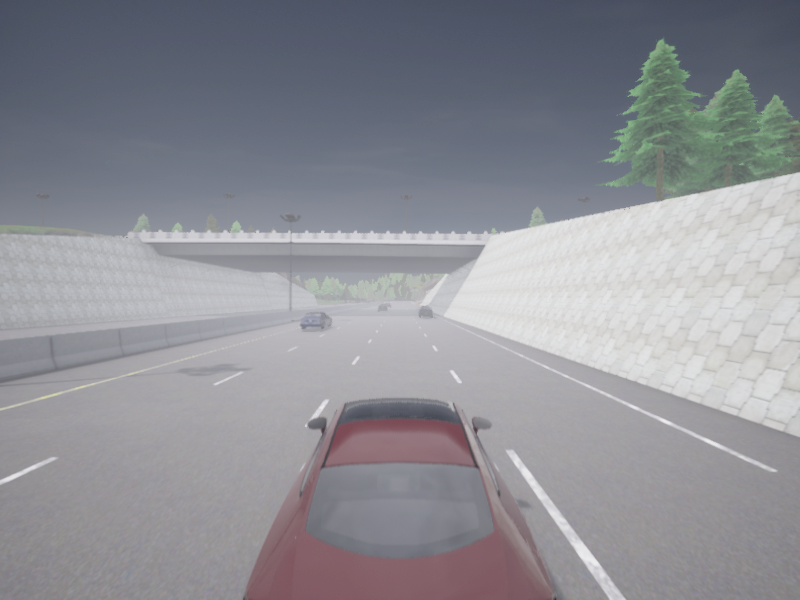vehicle: (242, 397, 557, 599), (300, 312, 331, 329), (417, 305, 432, 317), (378, 304, 387, 310), (385, 302, 391, 307)
